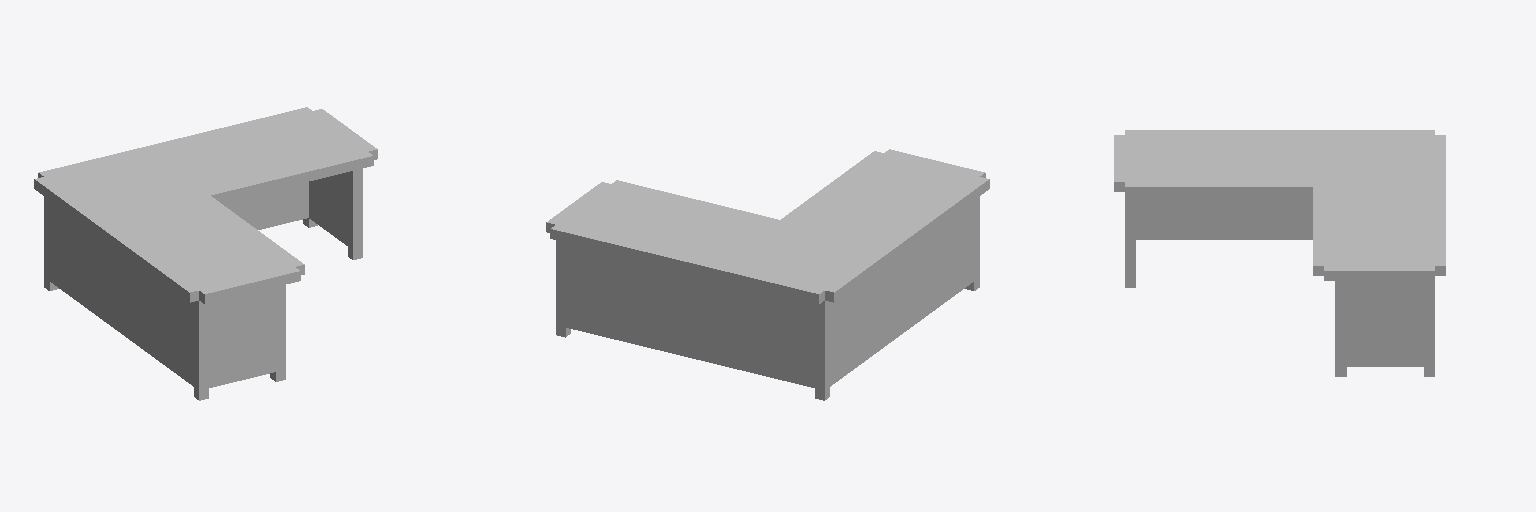
File: 3D Voxel Office Pack-77.obj
3 views of the same model, side by side, from view 1: azimuth 30°, elevation 25°; view 2: azimuth 150°, elevation 25°; view 3: azimuth 270°, elevation 25° (orthographic).
Parts seen in each view (by area): view 1: object 1; view 2: object 1; view 3: object 1.
Part boxes in pixels (bbox=[...]): object 1: bbox=[34, 107, 377, 400]; object 1: bbox=[546, 149, 989, 400]; object 1: bbox=[1114, 130, 1445, 376].
Bounding box in the file's own units: 3 × 1.1 × 3.